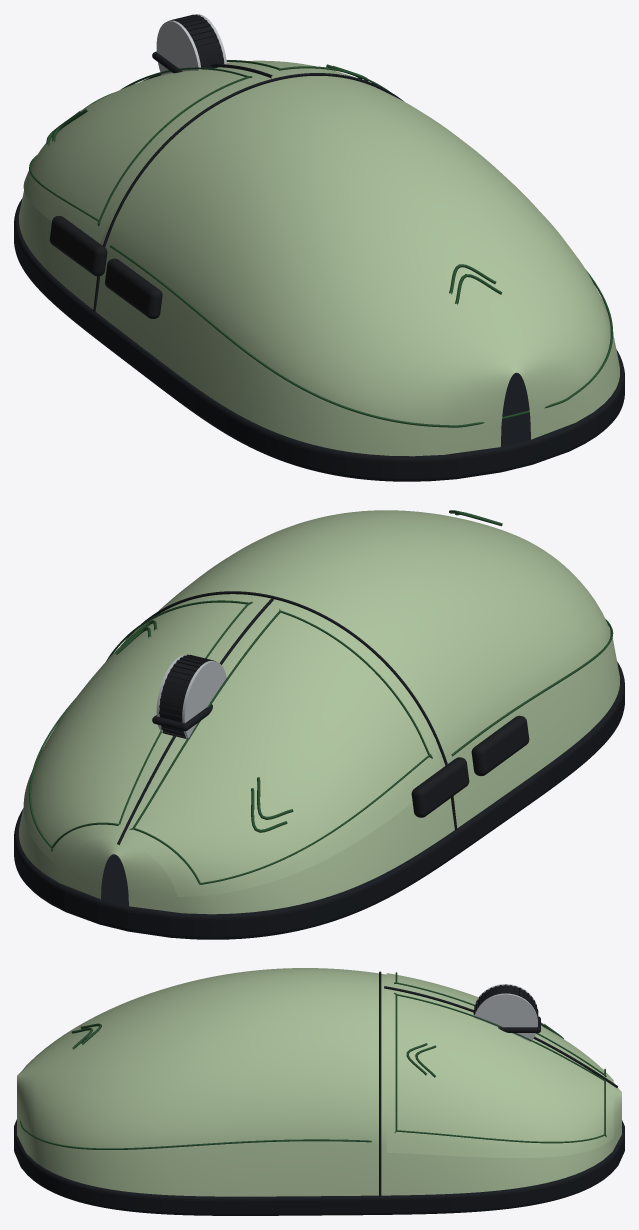
File: montset-mouse-sage-green.glb
3 views of the same model, one above another, from view 1: azimuth 30°, elevation 25°; view 2: azimuth 150°, elevation 25°; view 3: azimuth 270°, elevation 25° (orthographic). The views are drawn at different scales.
Visible parts, largest first — view 1: Sculpted upper shell, Lower chassis, Left main button, Side thumb button (×2), Painted outline (×2), Wheel silver rim, Palm and button seam, Right main button, Rubber scroll wheel; view 2: Sculpted upper shell, Left main button, Right main button, Lower chassis, Painted outline (×3), Side thumb button (×2), Wheel silver rim, Palm and button seam, Rubber scroll wheel, Split button seam; view 3: Sculpted upper shell, Right main button, Lower chassis, Painted outline (×3), Left main button, Wheel silver rim, Palm and button seam, Split button seam, Rubber scroll wheel.
Boxes of the visible parts, box(x1,y1,x2,y2) form: Sculpted upper shell: box(19, 65, 619, 456); Lower chassis: box(14, 198, 624, 481); Left main button: box(23, 69, 262, 243); Side thumb button (×2): box(49, 216, 162, 318); Painted outline (×2): box(29, 67, 613, 427); Wheel silver rim: box(156, 20, 200, 75); Palm and button seam: box(93, 73, 403, 311); Right main button: box(224, 60, 356, 77); Rubber scroll wheel: box(176, 17, 223, 67); Sculpted upper shell: box(19, 510, 619, 914); Left main button: box(123, 604, 441, 896); Right main button: box(23, 596, 262, 868); Lower chassis: box(14, 661, 624, 939); Painted outline (×3): box(29, 600, 613, 884); Side thumb button (×2): box(411, 715, 529, 817); Wheel silver rim: box(182, 660, 226, 739); Palm and button seam: box(124, 591, 457, 830); Rubber scroll wheel: box(159, 657, 207, 736); Split button seam: box(117, 598, 273, 845); Sculpted upper shell: box(17, 968, 621, 1196); Right main button: box(386, 991, 613, 1157); Lower chassis: box(14, 1119, 624, 1215); Painted outline (×3): box(20, 972, 606, 1149); Left main button: box(386, 973, 613, 1082); Wheel silver rim: box(474, 993, 537, 1041); Palm and button seam: box(379, 971, 381, 1196); Split button seam: box(384, 986, 617, 1087); Rubber scroll wheel: box(476, 985, 535, 1010).
Bounding box in the file's own units: 0.0663 × 0.0373 × 0.123.
